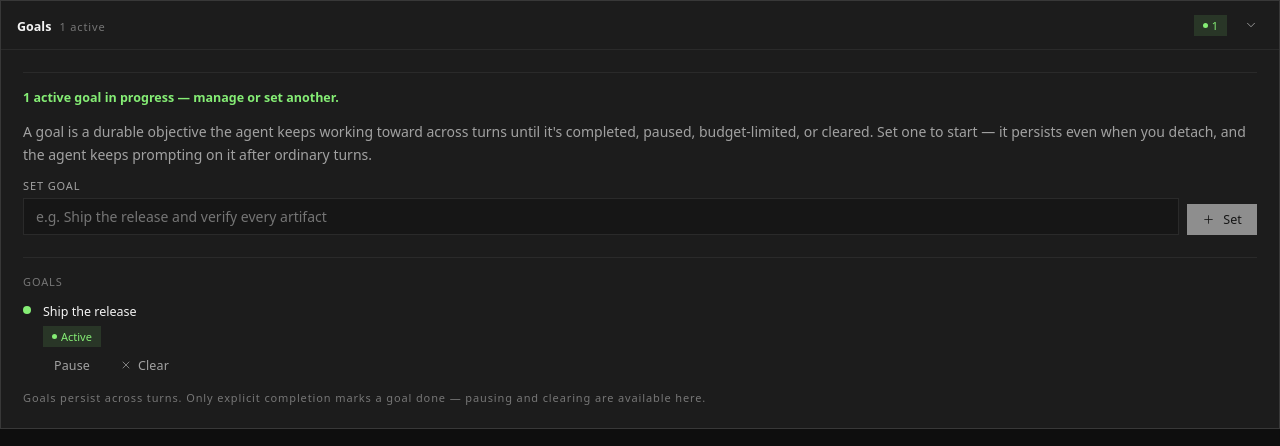
GoalsPanel › pauses an active goal and offers Resume
Click the button "Pause". click: (72, 365)
box: 43,353 -> 101,378
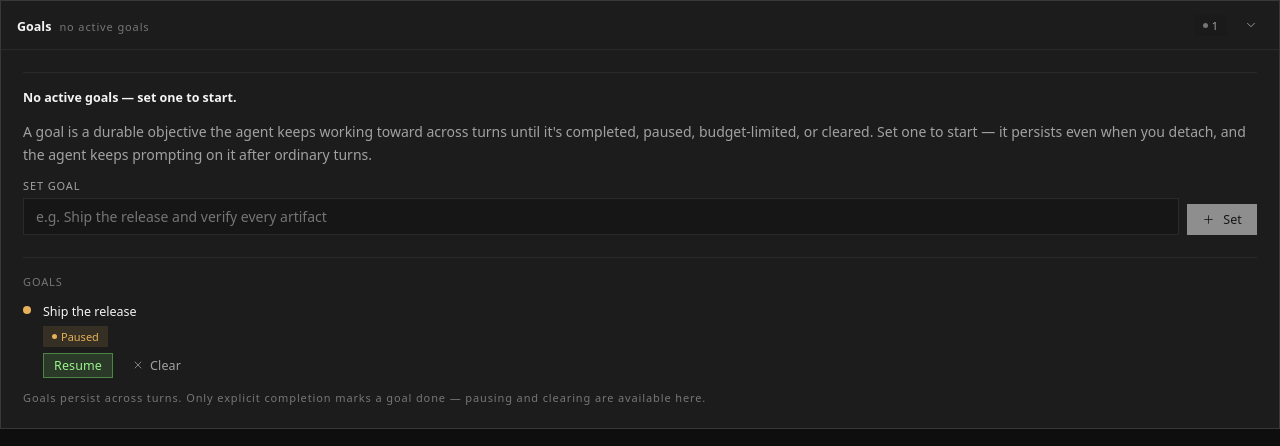
Now the button "Resume" is shown, box 43,353 -> 113,378
